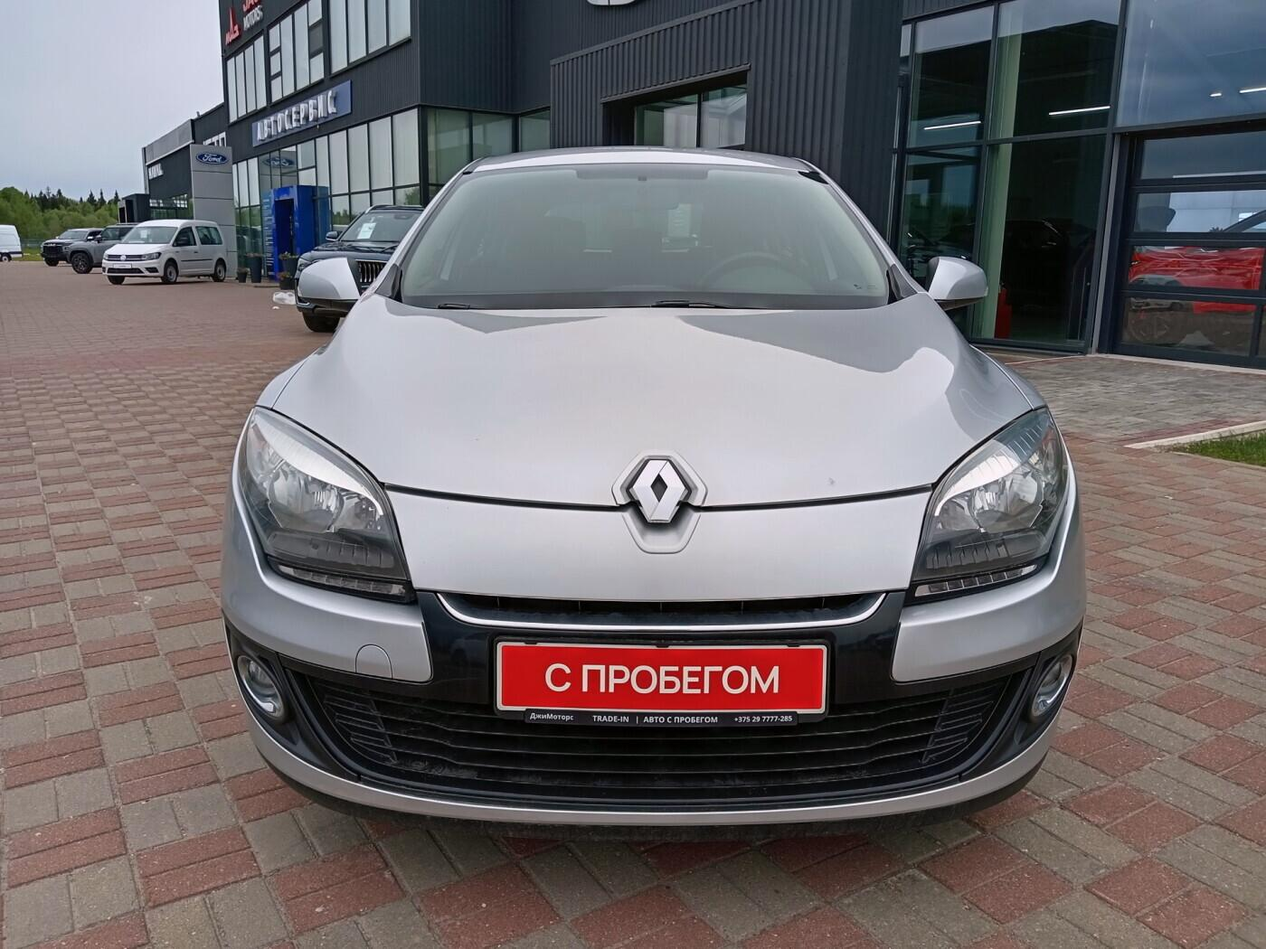Megane_2012-2014: (203, 146, 1094, 808)
